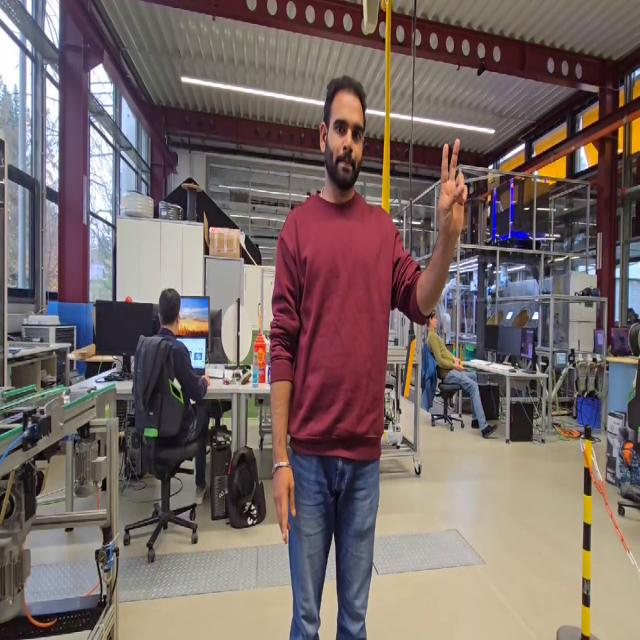v_sign: (434, 135, 470, 243)
